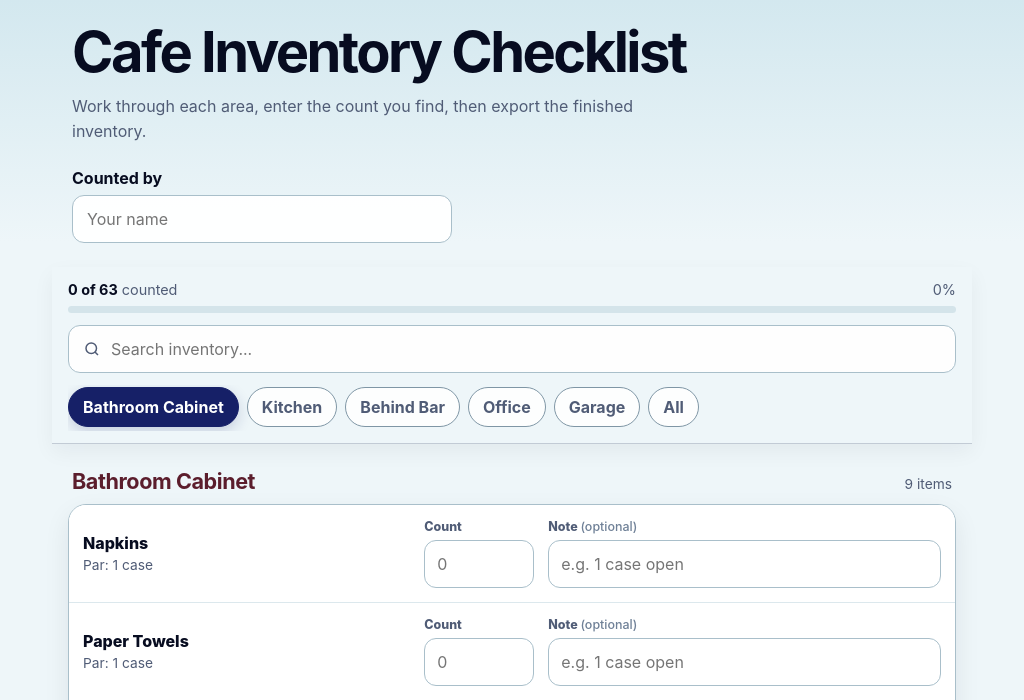
App › opens review with the entered-count summary collapsed and preserves data on return
The image size is (1024, 700).
Type "1" into the number field named "Napkins count" at (479, 564), box [424,540,534,588]
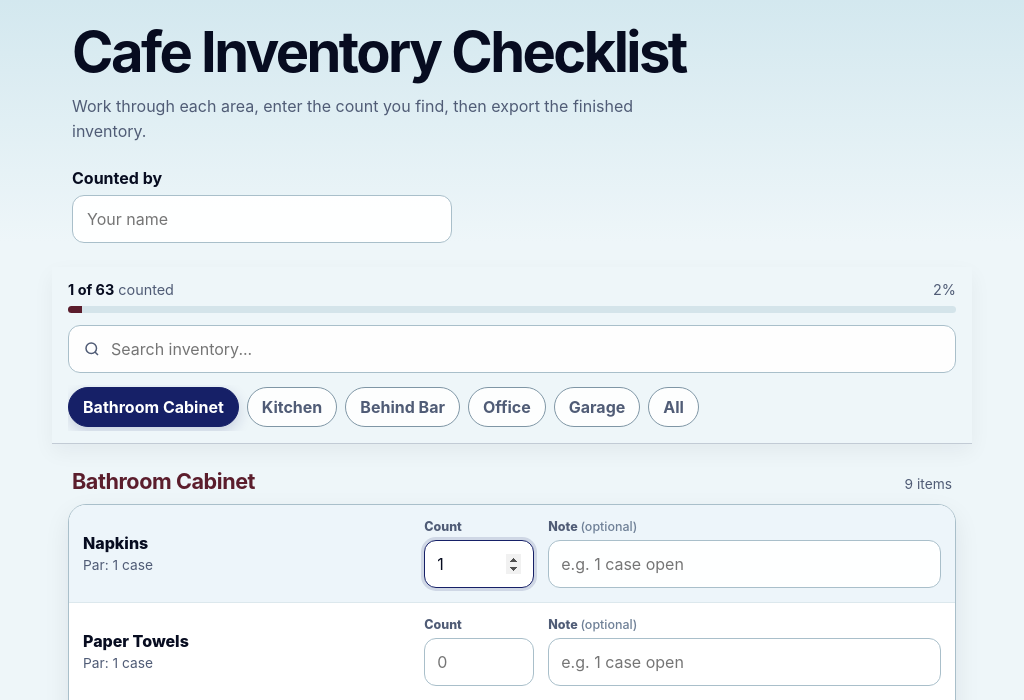
Type "open case" into the field named "Napkins note" at (745, 564), box [548,540,941,588]
(page scrolled)
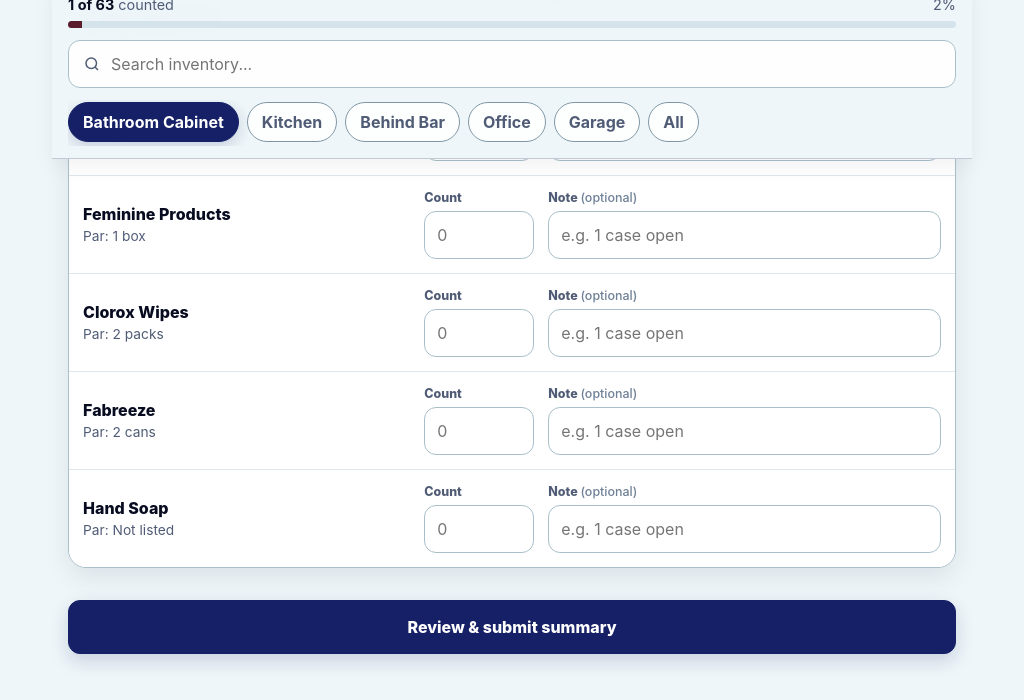
Click the button "Review & submit summary" at (512, 627), box [68,600,956,654]
(page scrolled)
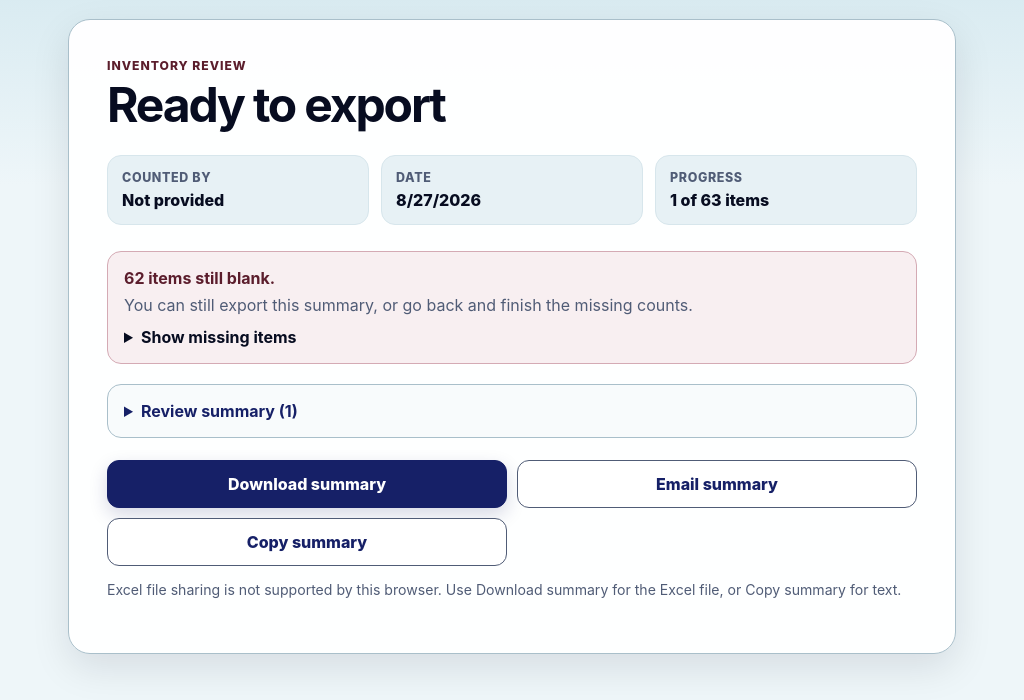
Click the heading "Review summary (1)" at (219, 411), box [141,401,298,421]
(page scrolled)
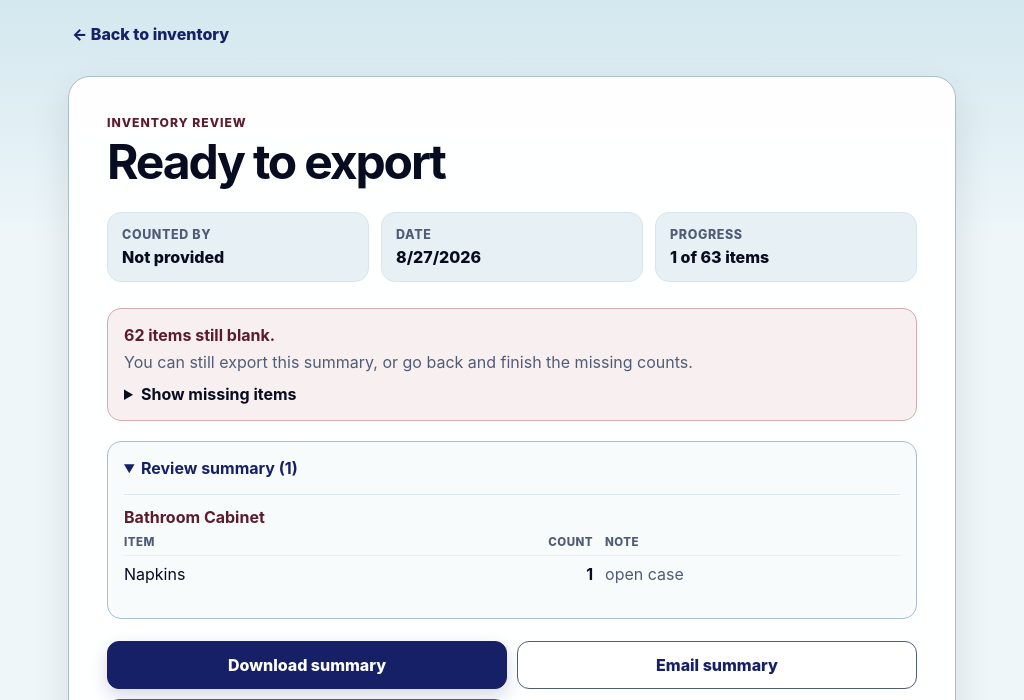
Click the button "← Back to inventory" at (151, 34), box [68,10,233,58]
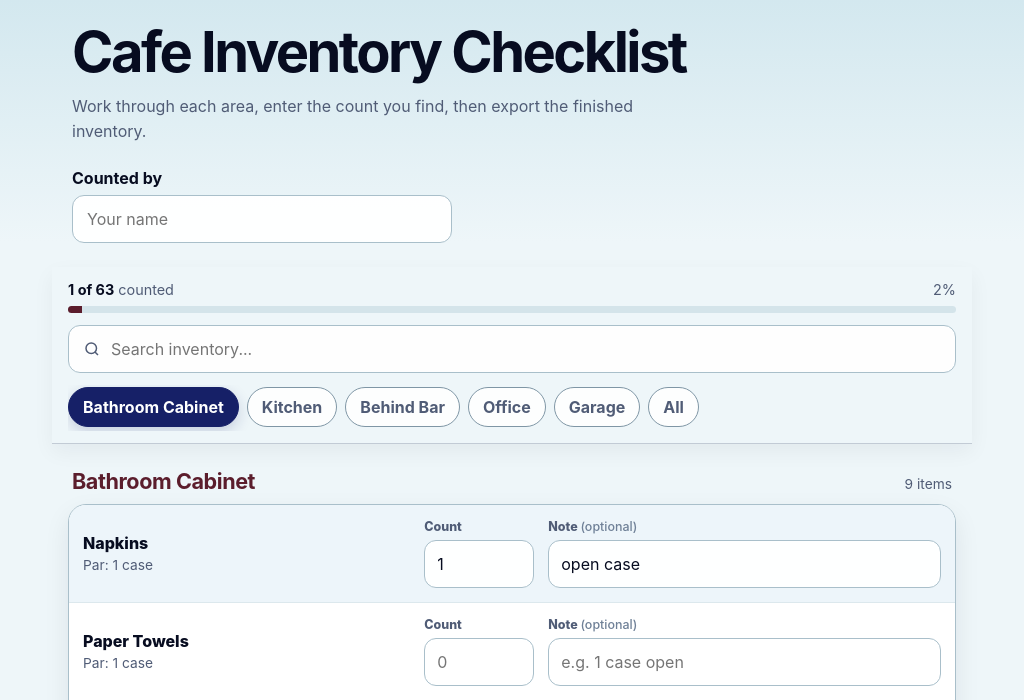
Now the number field named "Napkins count" holds "1", box [424,540,534,588]
Now the field named "Napkins note" holds "open case", box [548,540,941,588]
